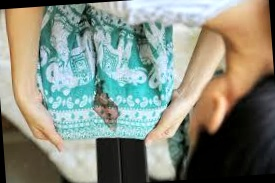blood: (92, 87, 121, 133)
